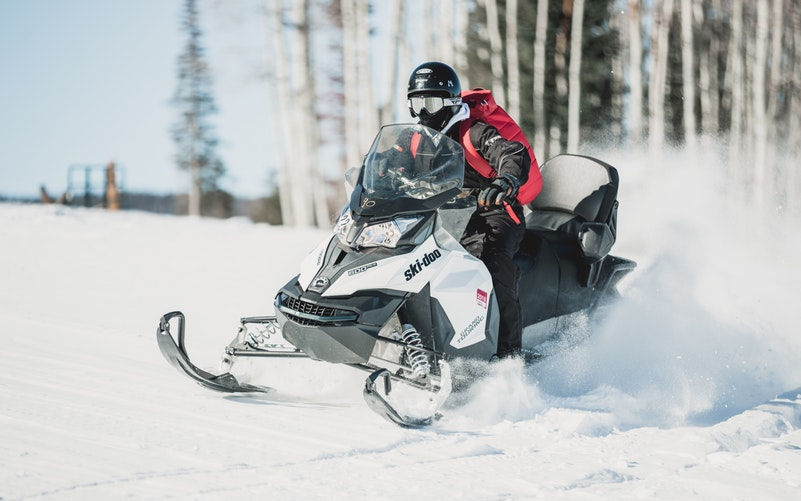helmet: (390, 50, 471, 129)
